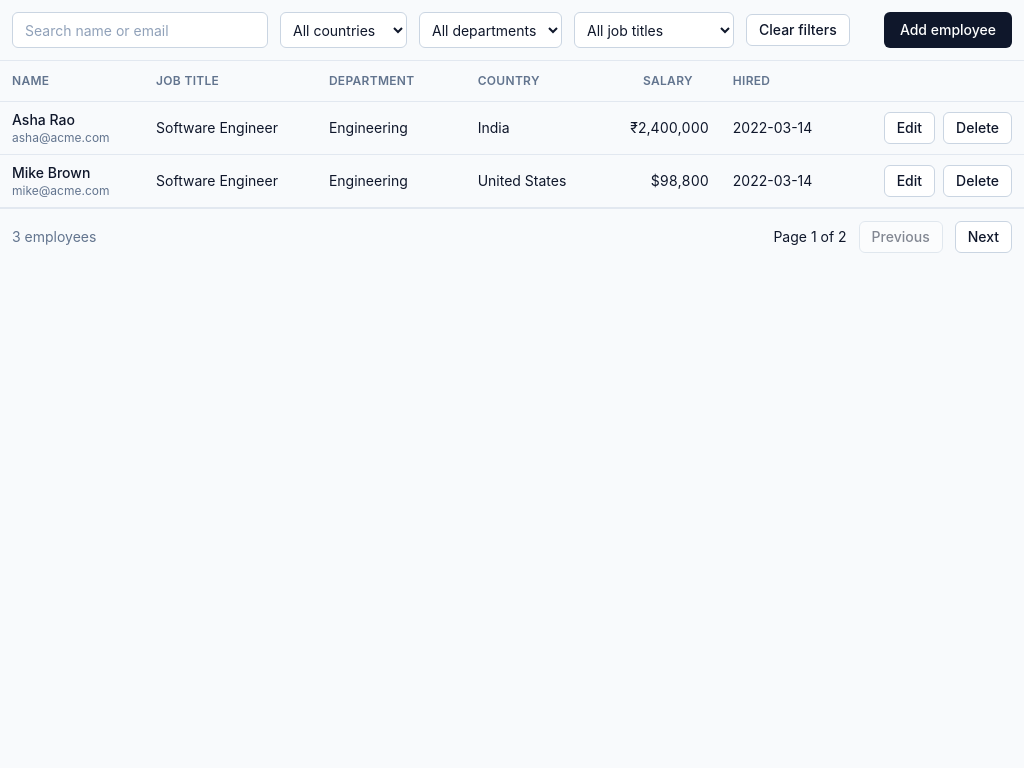
Test: adding, editing and deleting employees › editing › opens the form filled in with the employee's details
Expected: the text "Asha Rao" is shown, 12,110 -> 75,128
Click the button with aria-label "Edit Asha Rao" at (909, 128), box 884,112 -> 935,144
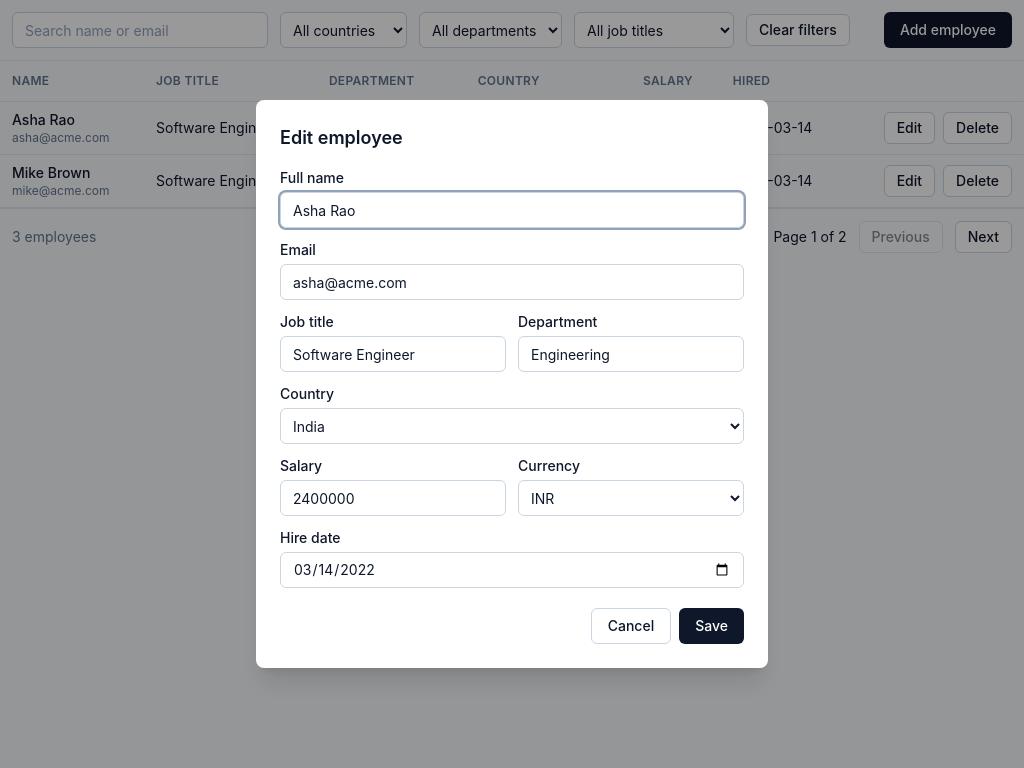
Result: the dialog "Edit employee" is shown at 256,100 -> 768,668
Result: the field labelled "Full name" holds "Asha Rao" at 280,192 -> 744,228
Result: the field labelled "Email" holds "asha@acme.com" at 280,264 -> 744,300
